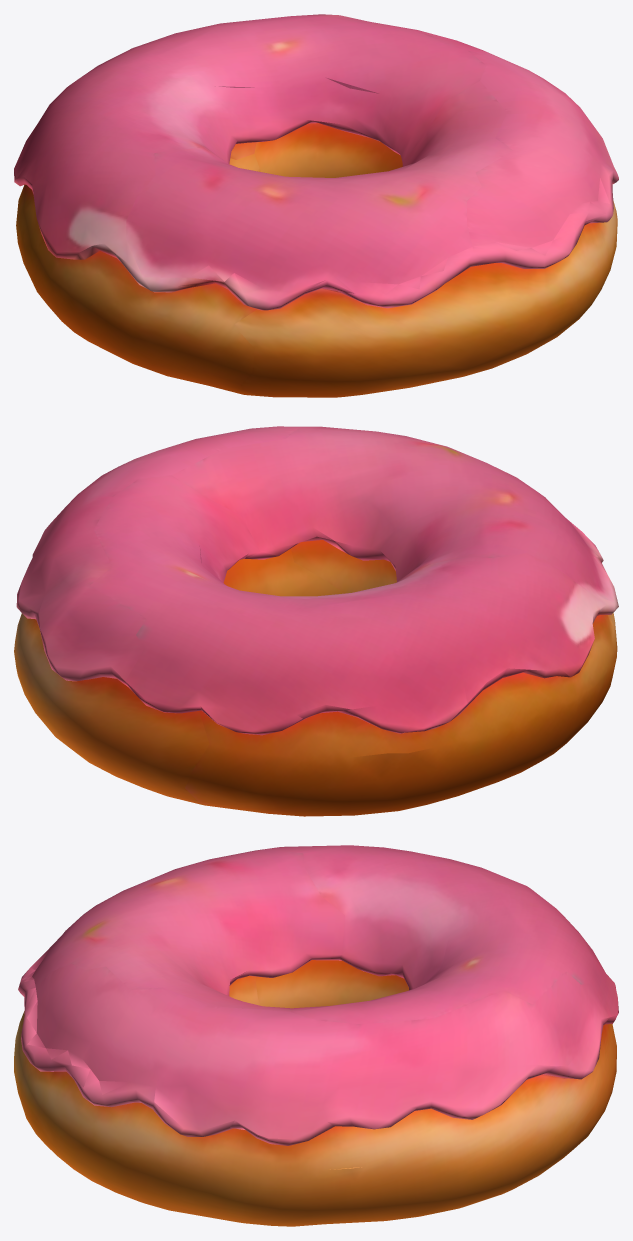
File: m2DonutPlatform.glb
3 renders of one model, top to bottom at view 1: azimuth 30°, elevation 25°; view 2: azimuth 150°, elevation 25°; view 3: azimuth 270°, elevation 25°, orthographic.
Parts seen in each view (by area): view 1: model; view 2: model; view 3: model.
Boxes of the visible parts, x1,y1,x2,y2 form: model: (14, 14, 618, 397); model: (14, 426, 618, 816); model: (14, 845, 618, 1226).
Bounding box in the file's own units: 1.9 × 0.681 × 1.88.
1 material, 1 textured.
